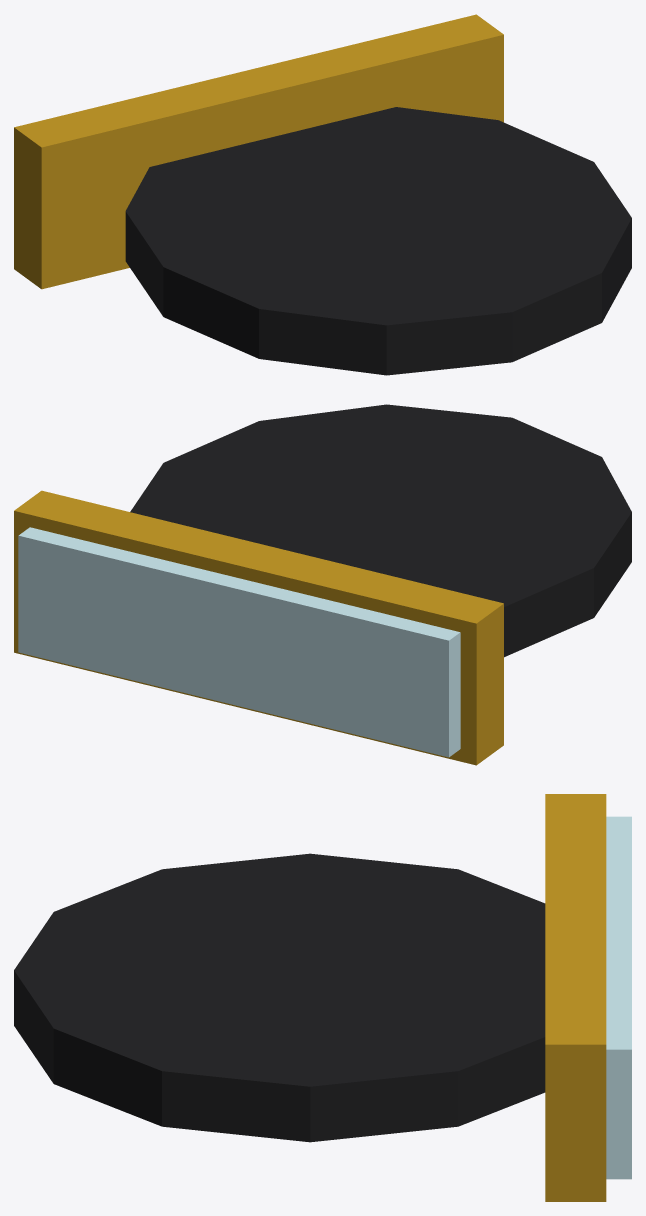
The model's file is cosmetic_glasses_safety_goggles.glb.
The picture shows the model from 3 angles, top to bottom: view 1: azimuth 30°, elevation 25°; view 2: azimuth 150°, elevation 25°; view 3: azimuth 270°, elevation 25°; orthographic projection. The views are drawn at different scales.
Parts seen in each view (by area): view 1: cosmetic_glasses_safety_goggles; view 2: cosmetic_glasses_safety_goggles; view 3: cosmetic_glasses_safety_goggles.
Part boxes in pixels (x1,y1,x2,y2): cosmetic_glasses_safety_goggles: (14,14,631,375); cosmetic_glasses_safety_goggles: (14,404,631,765); cosmetic_glasses_safety_goggles: (14,794,631,1201).
Size of the model in its own units: 0.29 by 0.085 by 0.3025.
1 material, 1 textured.
